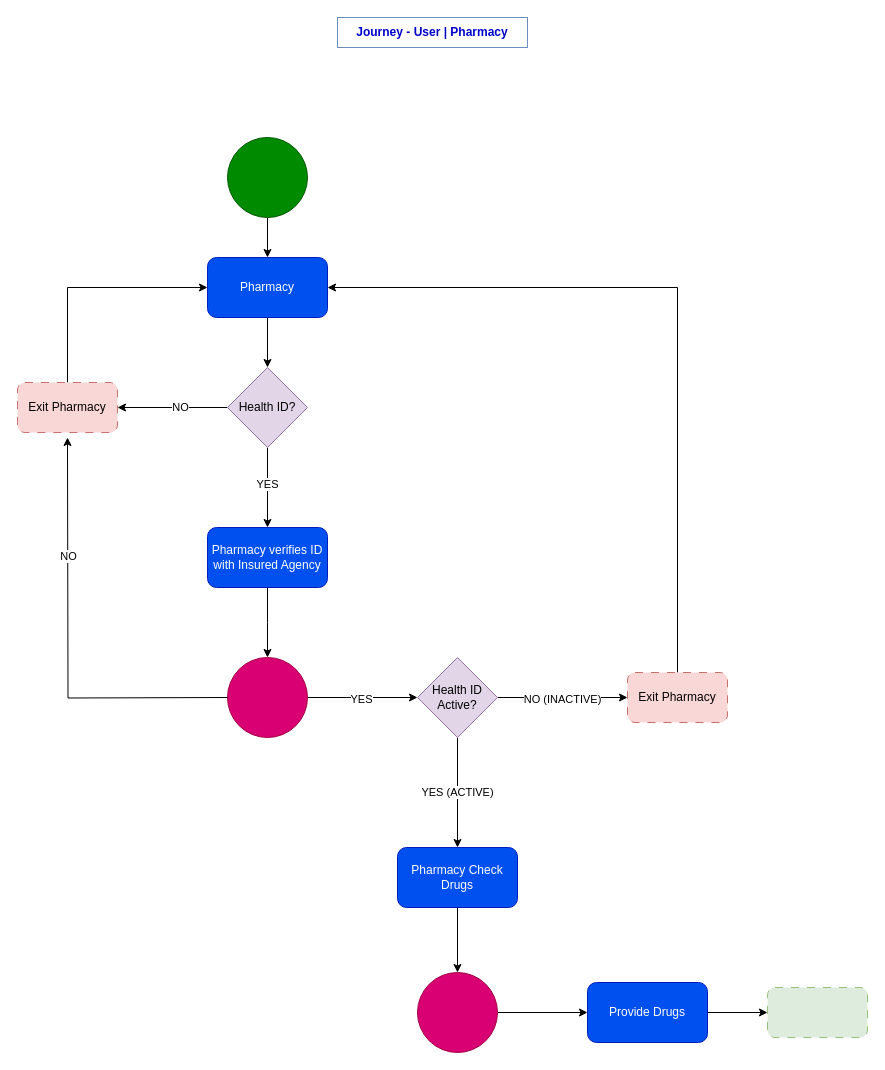
This 885x1070 diagram has some shape labels left out. The shapes that lost their labels are listed below. From the top down, each one's centre as x and y in pixels, then its label:
(x=267, y=177): User
(x=267, y=697): User Insured?
(x=457, y=1012): Generates Receipts
(x=817, y=1012): User Exit
